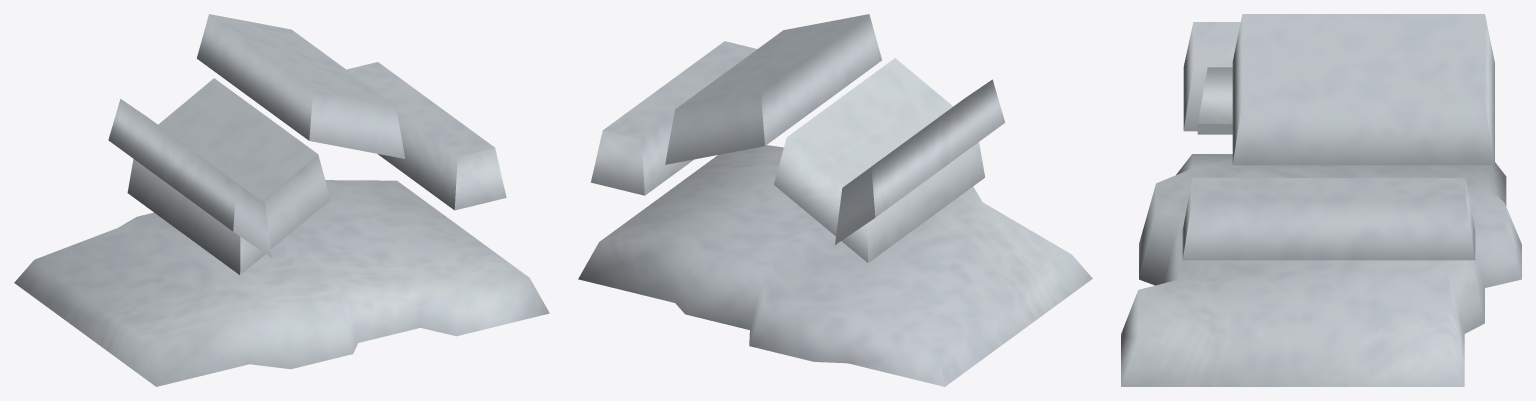
File: Wood_Pile_1_Snow.fbx
3 views of the same model, side by side, from view 1: azimuth 30°, elevation 25°; view 2: azimuth 150°, elevation 25°; view 3: azimuth 270°, elevation 25° (orthographic). The views are drawn at different scales.
Parts seen in each view (by area): view 1: Wood_Pile_1_Snow; view 2: Wood_Pile_1_Snow; view 3: Wood_Pile_1_Snow.
Part boxes in pixels (bbox=[...]): Wood_Pile_1_Snow: bbox=[14, 14, 549, 386]; Wood_Pile_1_Snow: bbox=[578, 14, 1092, 386]; Wood_Pile_1_Snow: bbox=[1121, 14, 1521, 386].
Bounding box in the file's own units: 127 × 75.62 × 102.
